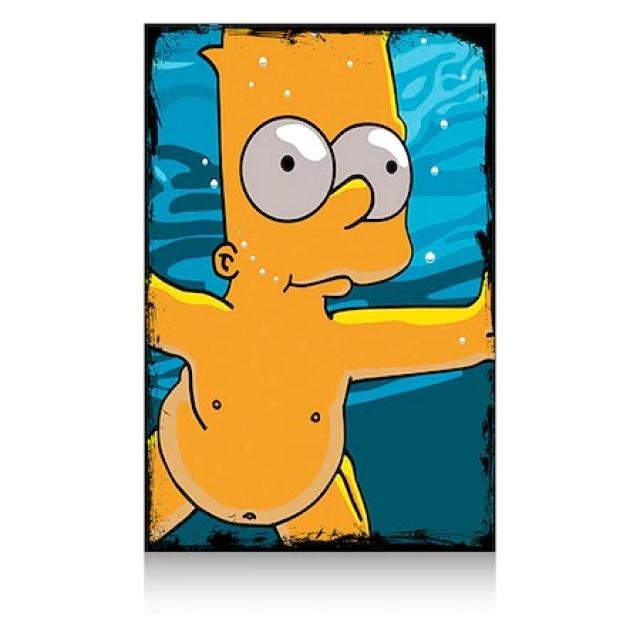Bart Simpson: (194, 25, 418, 331)
